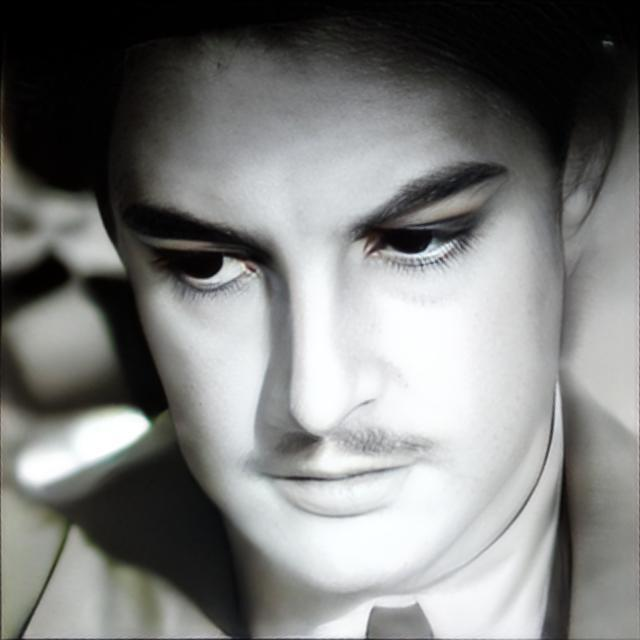anger: (126, 66, 567, 596)
